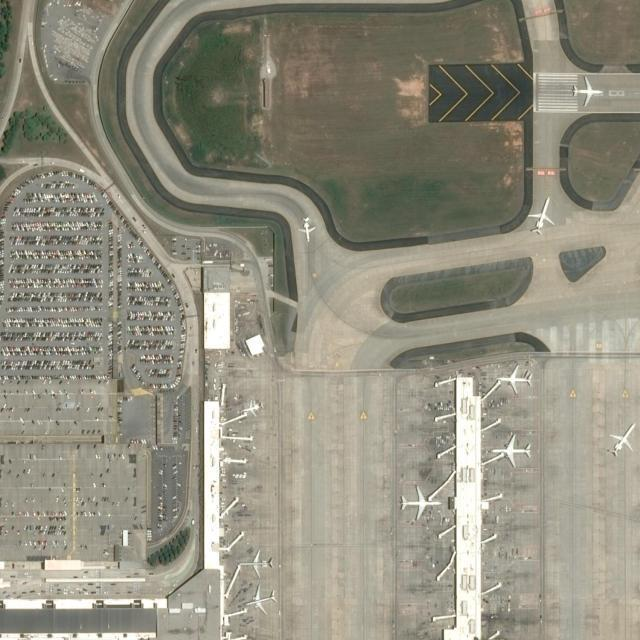Aircraft: (398, 487, 440, 523), (491, 433, 534, 467), (526, 196, 556, 232), (495, 366, 533, 394), (606, 421, 636, 456), (237, 550, 275, 577), (570, 77, 605, 106), (244, 586, 278, 615), (296, 216, 317, 240), (242, 400, 264, 416)
